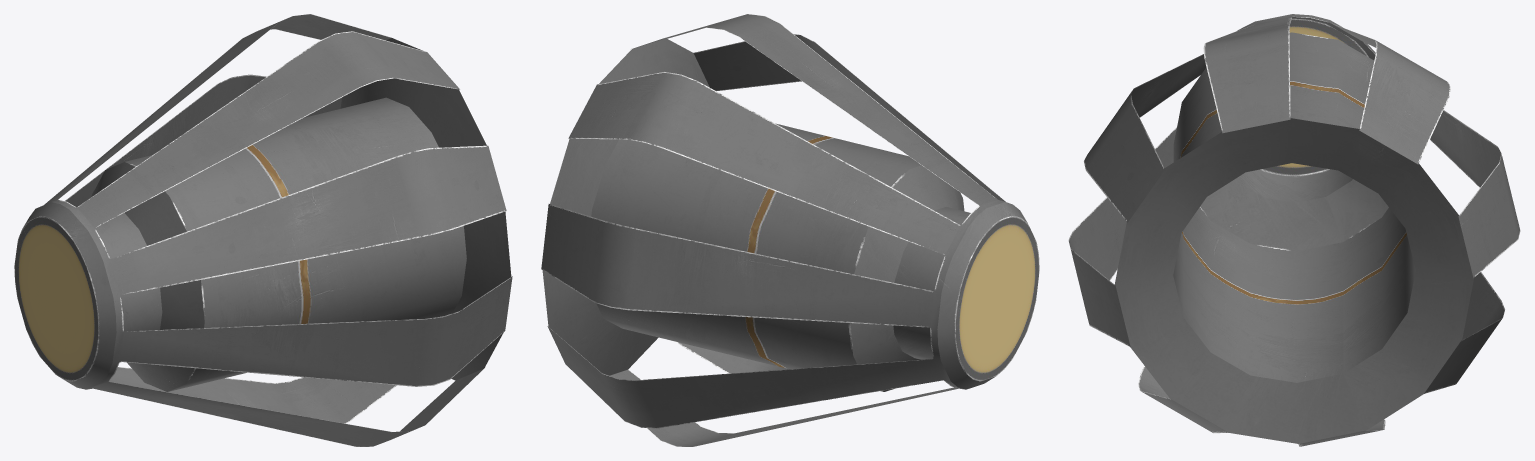
The model's file is pommel_14_c_b.glb.
3 views of the same model, side by side, from view 1: azimuth 30°, elevation 25°; view 2: azimuth 150°, elevation 25°; view 3: azimuth 270°, elevation 25° (orthographic). The views are drawn at different scales.
Visible parts, largest first — view 1: pommel_14_c_b_lod0; view 2: pommel_14_c_b_lod0; view 3: pommel_14_c_b_lod0.
Part boxes in pixels (x1,y1,x2,y2): pommel_14_c_b_lod0: (14, 14, 512, 446); pommel_14_c_b_lod0: (541, 14, 1039, 446); pommel_14_c_b_lod0: (1068, 14, 1520, 446).
Size of what is drawn, in the model's own units: 0.0346 by 0.0358 by 0.0358.
1 material, 1 textured.
